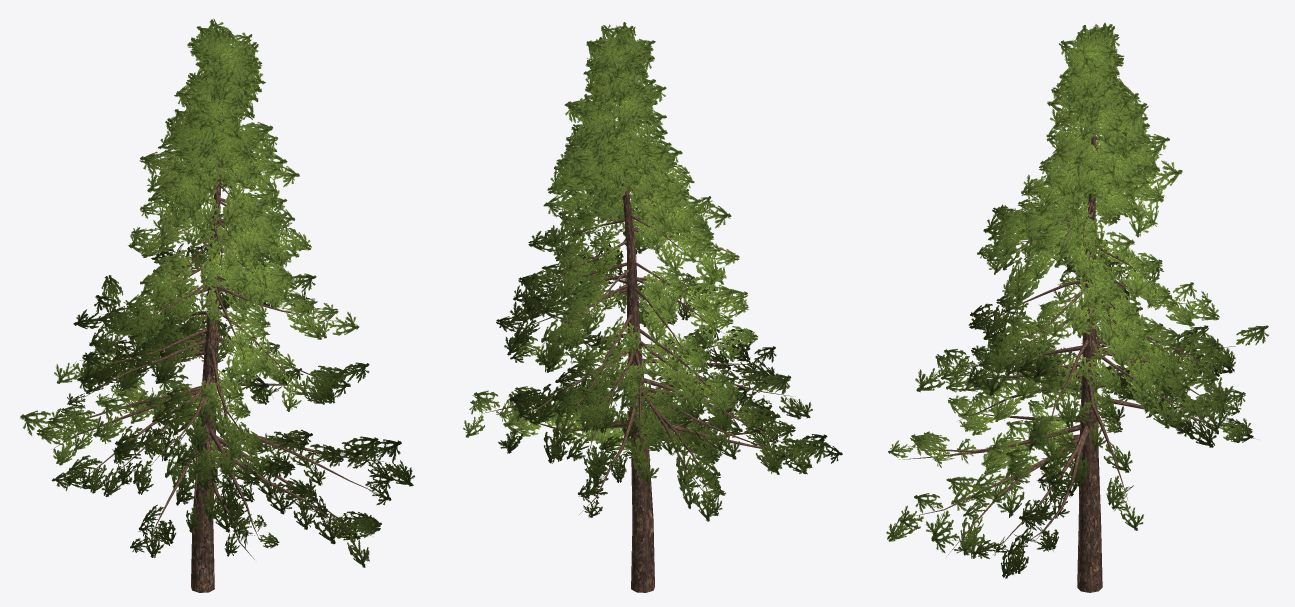
File: pine.glb
3 views of the same model, side by side, from view 1: azimuth 30°, elevation 25°; view 2: azimuth 150°, elevation 25°; view 3: azimuth 270°, elevation 25° (orthographic). The views are drawn at different scales.
Parts seen in each view (by area): view 1: pine; view 2: pine; view 3: pine.
Part boxes in pixels (box(x1,y1,x2,y2)): pine: box(20, 18, 414, 592); pine: box(463, 22, 842, 592); pine: box(886, 22, 1268, 592).
Bounding box in the file's own units: 6.43 × 10 × 6.34.
2 materials, 2 textured.
